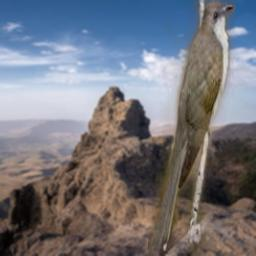Cuckoo: (148, 0, 235, 256)
